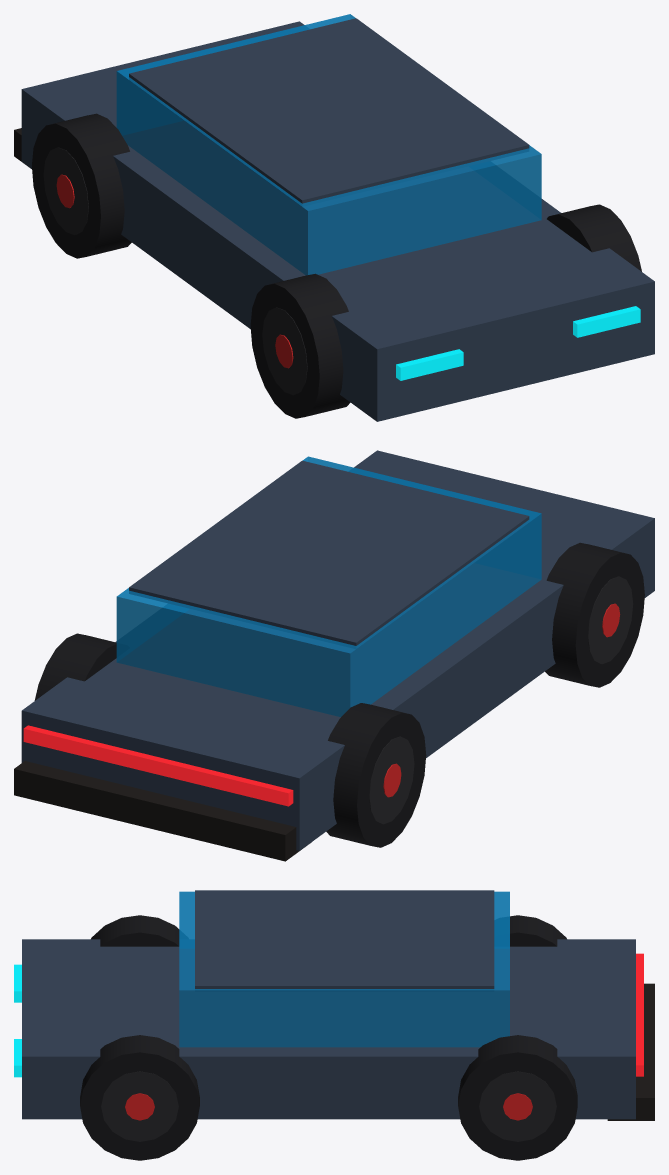
The model's file is audi_etron_gt.glb.
3 views of the same model, one above another, from view 1: azimuth 30°, elevation 25°; view 2: azimuth 150°, elevation 25°; view 3: azimuth 270°, elevation 25° (orthographic). The views are drawn at different scales.
Size of the model in its own units: 0.51 by 0.2654 by 1.
